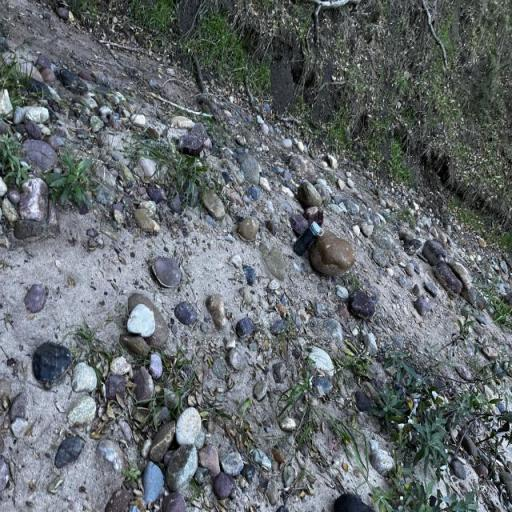bottle: (293, 222, 324, 256)
